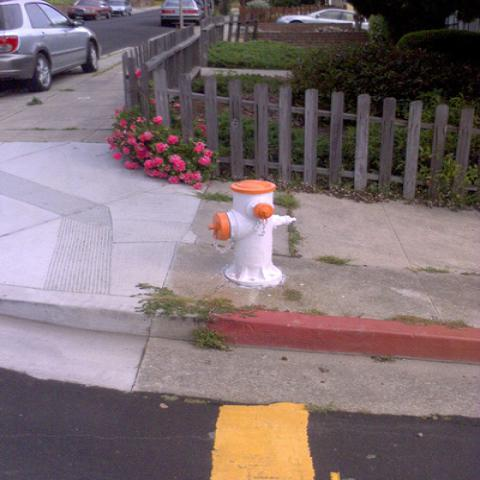car: (0, 2, 102, 93), (275, 11, 360, 27), (159, 0, 207, 27), (68, 2, 112, 22), (107, 0, 132, 17)
